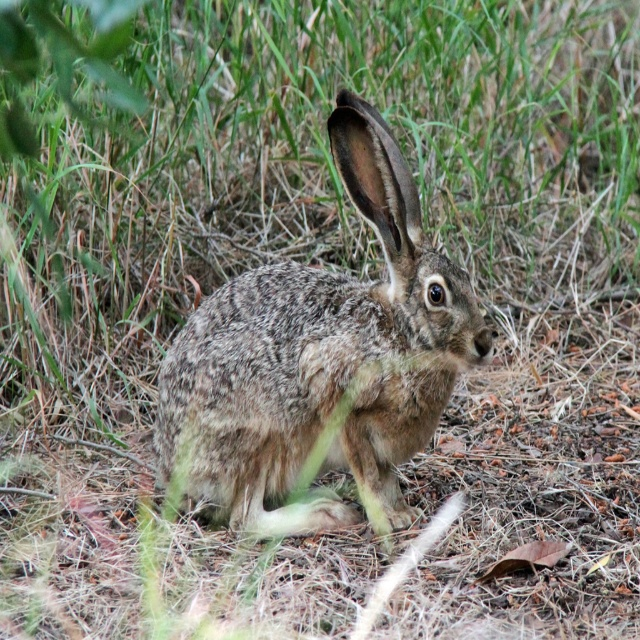Rabbit: (152, 88, 494, 541)
